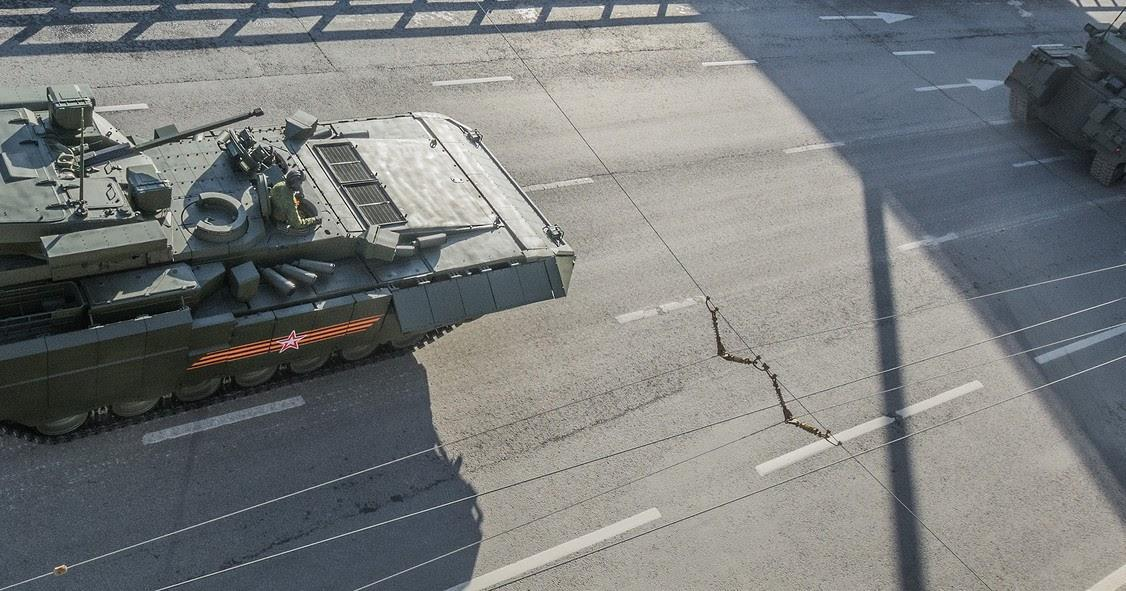tank: (0, 70, 590, 446), (1005, 18, 1126, 188)
